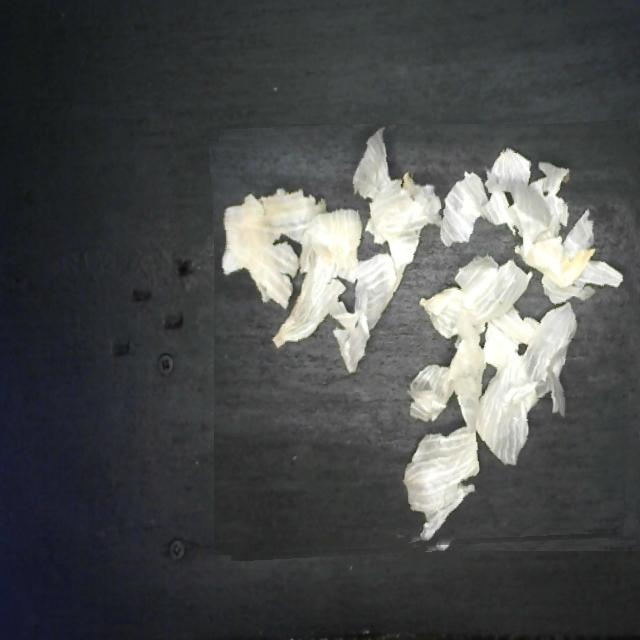biodegradable: (214, 124, 640, 556)
